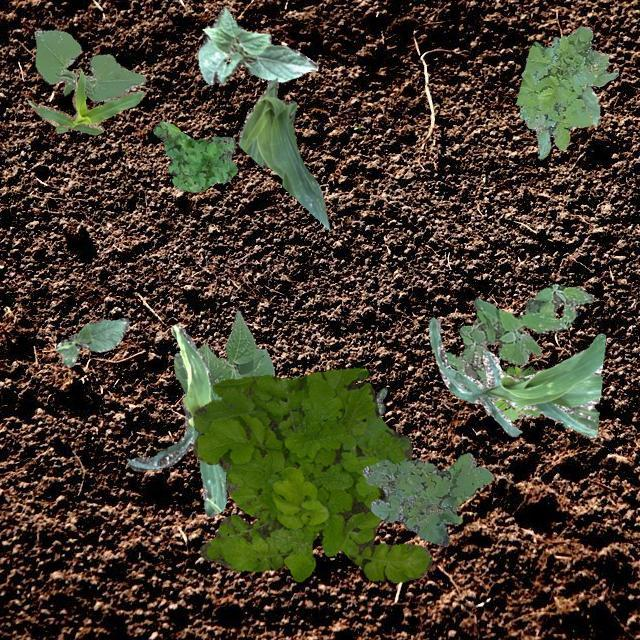crop: (428, 317, 604, 437), (126, 324, 226, 516), (236, 78, 328, 228), (196, 6, 318, 84), (172, 310, 274, 400), (34, 28, 146, 100), (27, 66, 144, 134), (551, 36, 599, 124), (54, 316, 128, 366), (592, 52, 618, 86)
weed: (192, 366, 432, 582), (443, 282, 592, 383), (362, 452, 492, 544), (516, 26, 602, 158), (152, 120, 236, 192), (491, 366, 538, 420), (374, 386, 386, 414)
